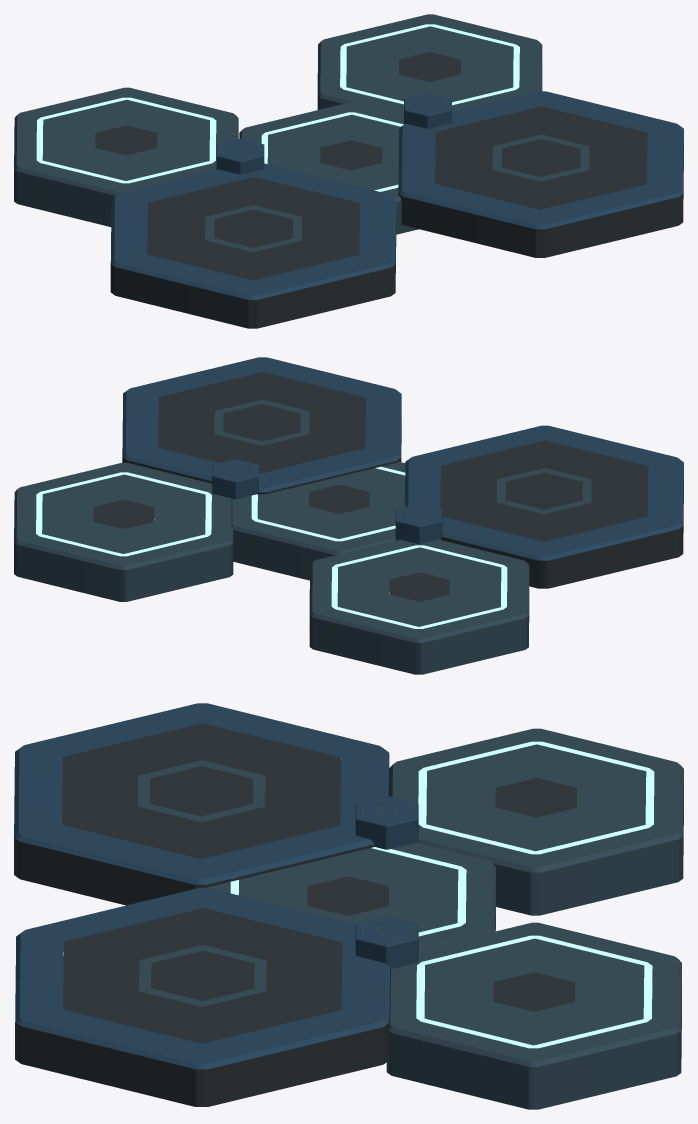
File: Aero_Ground_Hexagons_02_Art.glb
The picture shows the model from 3 angles, top to bottom: view 1: azimuth 30°, elevation 25°; view 2: azimuth 150°, elevation 25°; view 3: azimuth 270°, elevation 25°; orthographic projection. The views are drawn at different scales.
Parts seen in each view (by area): view 1: Aero_Ground_Hexagons_02_Art; view 2: Aero_Ground_Hexagons_02_Art; view 3: Aero_Ground_Hexagons_02_Art.
Part boxes in pixels (x1,y1,x2,y2): Aero_Ground_Hexagons_02_Art: [14, 14, 683, 328]; Aero_Ground_Hexagons_02_Art: [14, 357, 683, 674]; Aero_Ground_Hexagons_02_Art: [14, 703, 683, 1109].
Size of the model in its own units: 16.7 by 2.02 by 12.98.
